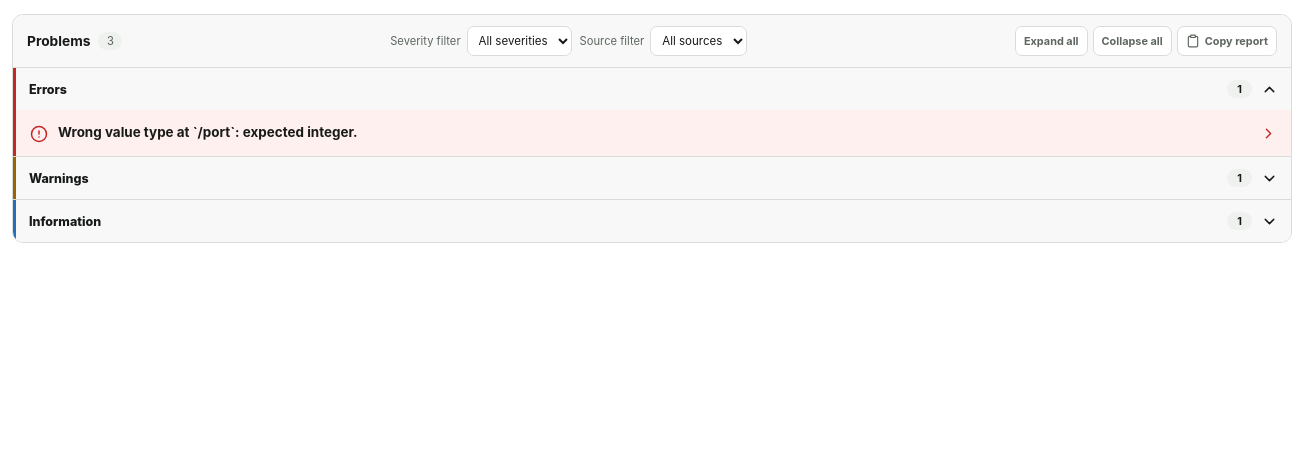
Test case: groups findings by severity with errors open and other groups collapsible
Expected: the text "Wrong value type at `/port`: expected integer." is shown, [58,124,358,140]
Expected: the text "complete warning explanation" is not shown
Click the button "Expand all".
click(1051, 41)  # box [1015,26,1088,56]
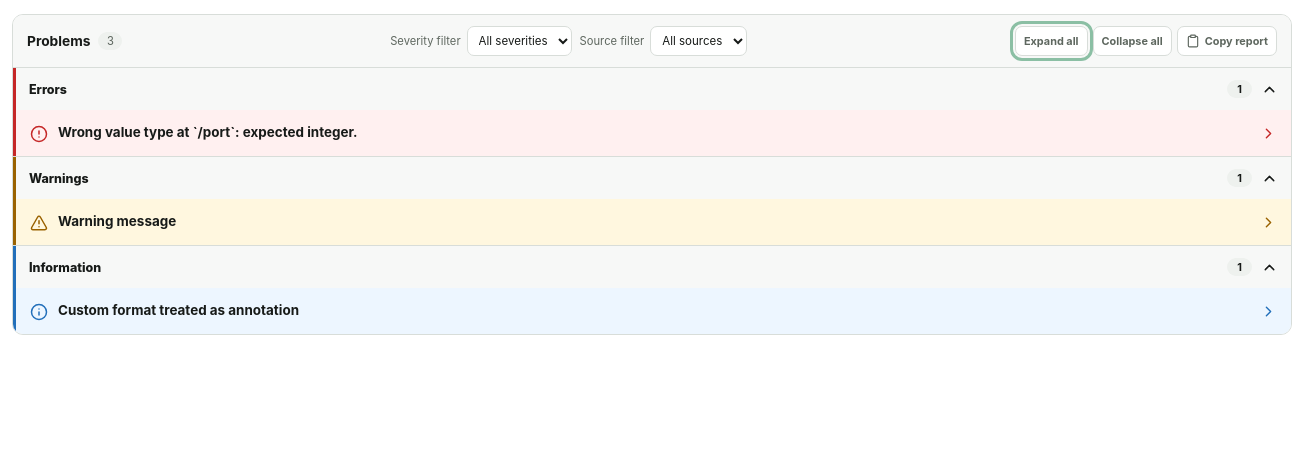
Click the heading "Warning message".
click(117, 221)  # box [30,212,1277,232]
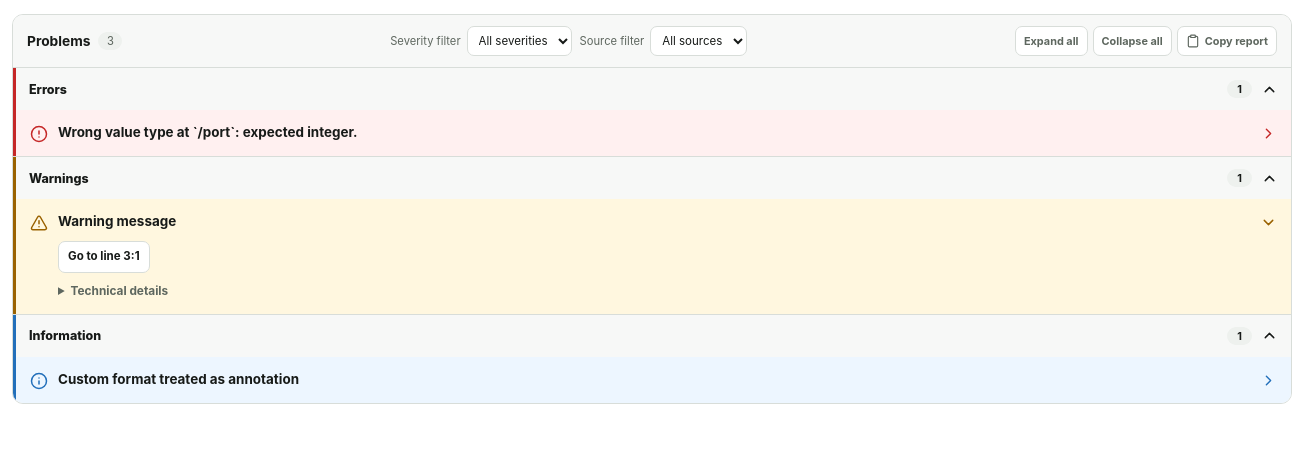
Click the heading "Technical details".
click(119, 291)  # box [70,284,168,298]
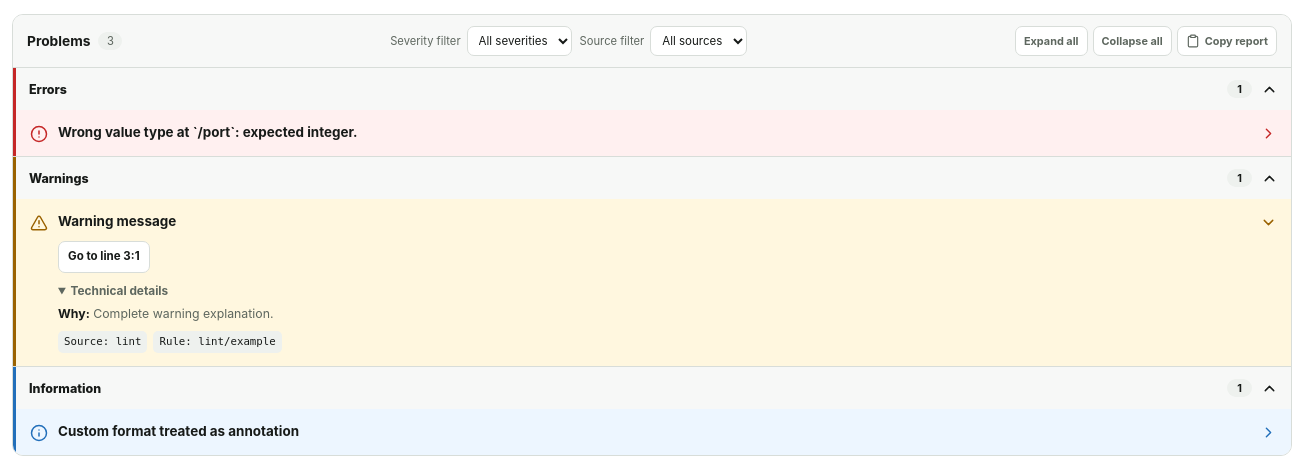
Expected: the text "Why: Complete warning explanation." is shown, [58,306,274,321]
Click the button "Collapse all".
click(1132, 41)  # box [1092,26,1172,56]
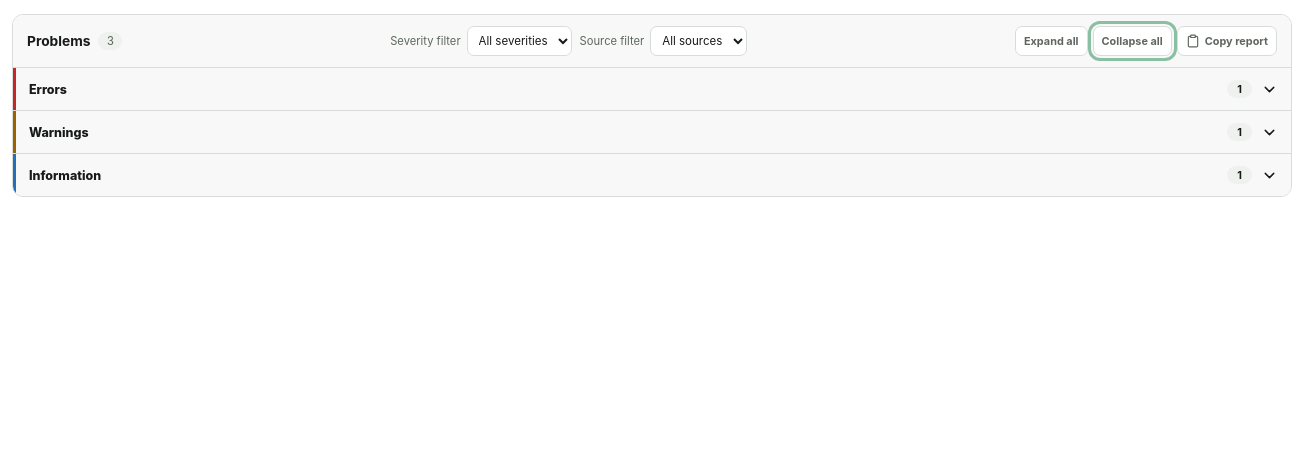
Expected: the heading "Wrong value type" is gone
